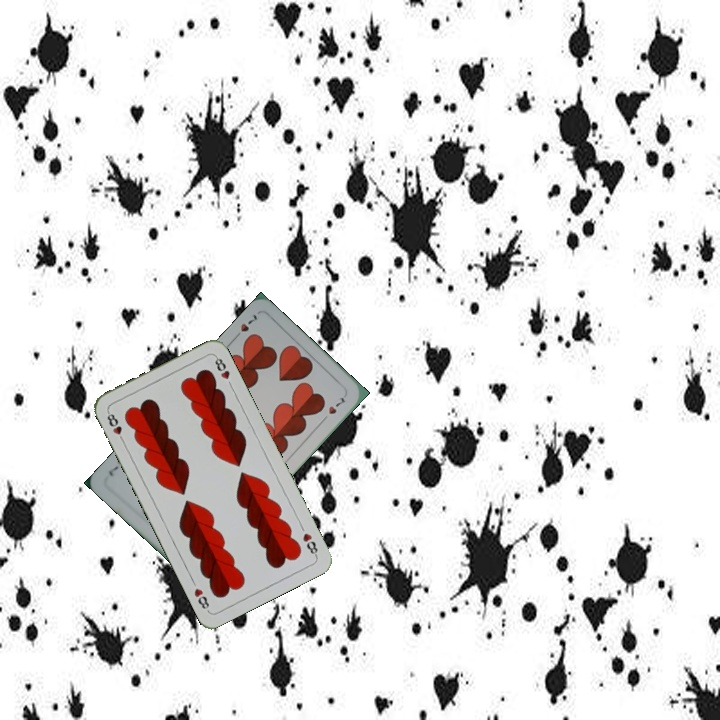H7: (229, 310, 260, 343)
H8: (103, 407, 127, 445), (299, 529, 320, 559)
